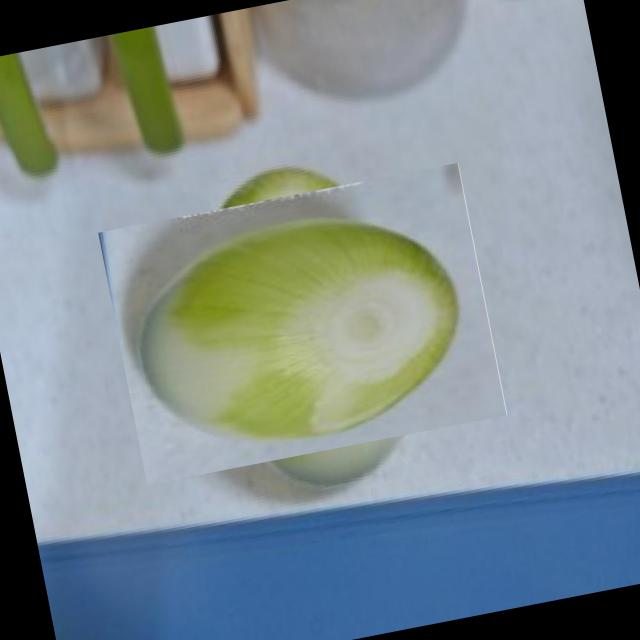Onion: (120, 141, 486, 507)
